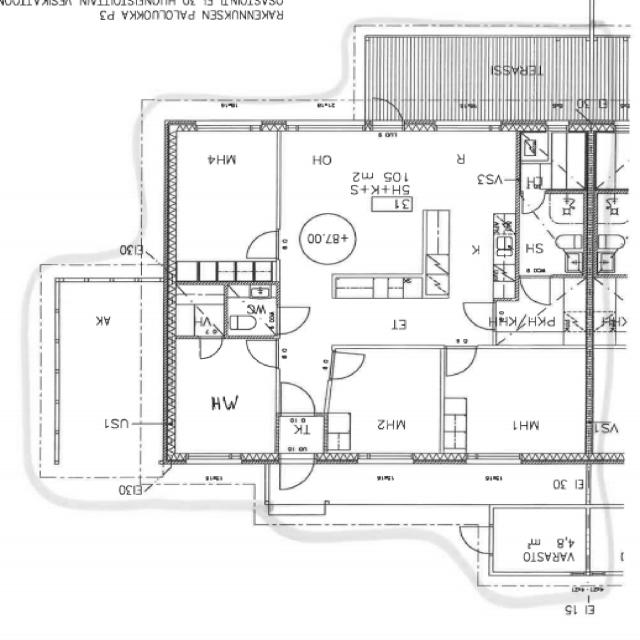door: (225, 286, 288, 339), (275, 453, 317, 493), (276, 378, 318, 417), (456, 522, 501, 557), (458, 297, 499, 334), (327, 347, 369, 383), (242, 226, 282, 262), (366, 97, 406, 133), (273, 302, 313, 336), (243, 336, 279, 370), (441, 346, 478, 378), (518, 275, 554, 307), (517, 187, 546, 216), (195, 334, 225, 362)
window: (58, 267, 138, 289), (282, 118, 364, 136), (192, 118, 265, 136), (180, 450, 248, 469), (428, 119, 502, 136), (351, 450, 419, 468), (464, 449, 525, 468), (541, 120, 571, 134)
zone: (51, 271, 163, 504), (286, 532, 480, 639), (275, 132, 519, 216), (441, 344, 599, 460), (168, 128, 280, 280), (324, 346, 446, 459), (167, 338, 276, 460), (488, 506, 606, 588), (515, 193, 586, 277), (498, 280, 584, 339), (516, 130, 590, 192), (224, 282, 279, 339), (505, 275, 566, 319)
